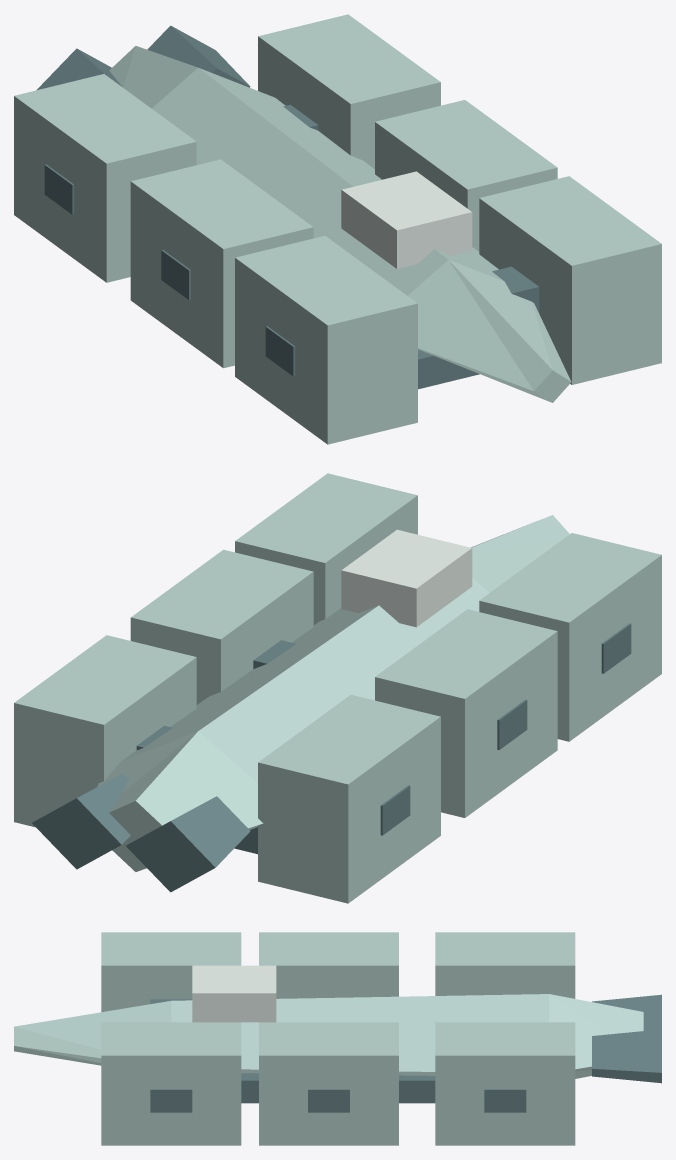
3 views of the same model, one above another, from view 1: azimuth 30°, elevation 25°; view 2: azimuth 150°, elevation 25°; view 3: azimuth 270°, elevation 25° (orthographic). The views are drawn at different scales.
Bounding box in the file's own units: 4.46 × 1.75 × 9.82.
